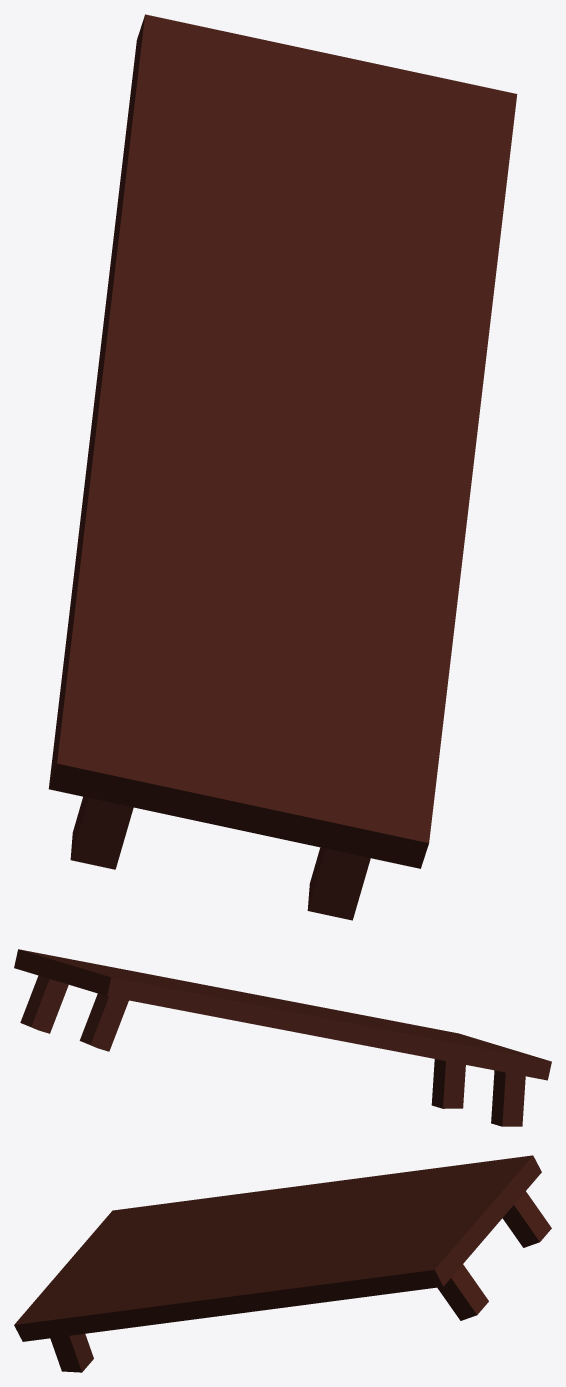
The model's file is Tavolo.fbx.
3 views of the same model, one above another, from view 1: azimuth 30°, elevation 25°; view 2: azimuth 150°, elevation 25°; view 3: azimuth 270°, elevation 25° (orthographic). The views are drawn at different scales.
Visible parts, largest first — view 1: Cube; view 2: Cube; view 3: Cube.
Boxes of the visible parts, x1,y1,x2,y2 form: Cube: (48, 14, 517, 920); Cube: (14, 949, 551, 1126); Cube: (14, 1155, 551, 1372).
Size of the model in its own units: 596 by 390 by 686.
